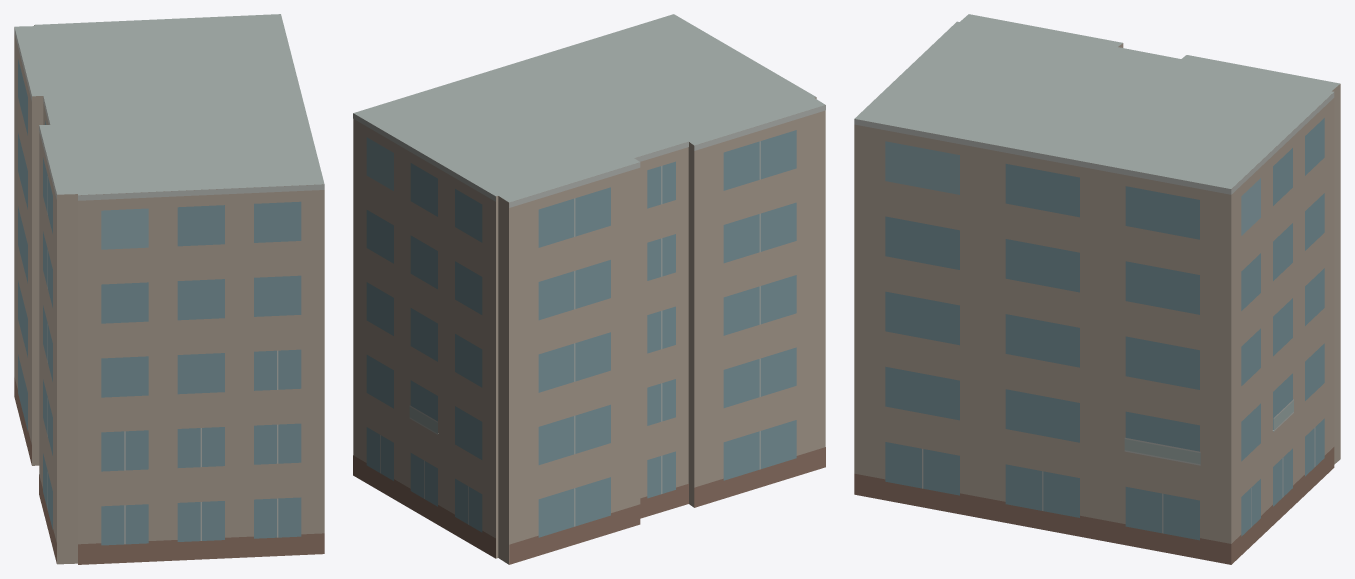
The model's file is survey-upis-32656319.glb.
3 views of the same model, side by side, from view 1: azimuth 30°, elevation 25°; view 2: azimuth 150°, elevation 25°; view 3: azimuth 270°, elevation 25° (orthographic). The views are drawn at different scales.
Parts seen in each view (by area): view 1: survey-upis-32656319.tmp; view 2: survey-upis-32656319.tmp; view 3: survey-upis-32656319.tmp.
Part boxes in pixels (left/top/right/bottom): survey-upis-32656319.tmp: left=14, top=14, right=324, bottom=564; survey-upis-32656319.tmp: left=353, top=14, right=825, bottom=564; survey-upis-32656319.tmp: left=854, top=14, right=1340, bottom=564.
Bounding box in the file's own units: 16.1 × 16.1 × 18.89.
